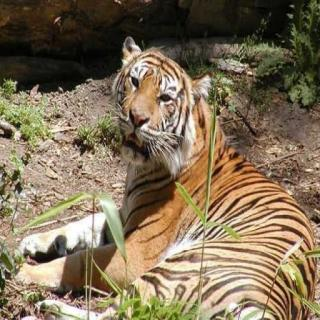Tiger: (33, 34, 320, 320)
